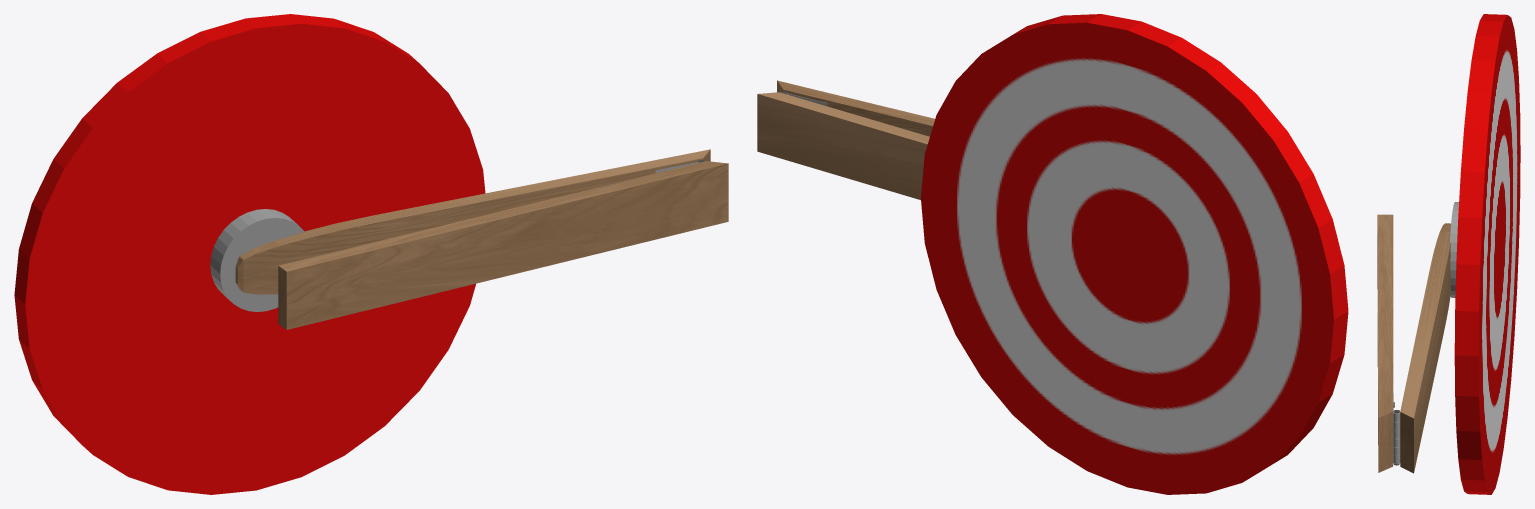
Rendered from Target_Hit.fbx.
The picture shows the model from 3 angles, left to right: view 1: azimuth 30°, elevation 25°; view 2: azimuth 150°, elevation 25°; view 3: azimuth 270°, elevation 25°; orthographic projection. The views are drawn at different scales.
Visible parts, largest first — view 1: Target + Arm, Base; view 2: Target + Arm, Base; view 3: Target + Arm, Base.
Boxes of the visible parts, x1,y1,x2,y2 form: Target + Arm: (14,14,710,494); Base: (278,161,728,329); Target + Arm: (757,14,1348,494); Base: (777,80,934,136); Target + Arm: (1393,14,1520,494); Base: (1377,214,1400,472).
Size of the model in its own units: 290 by 200 by 59.55.
